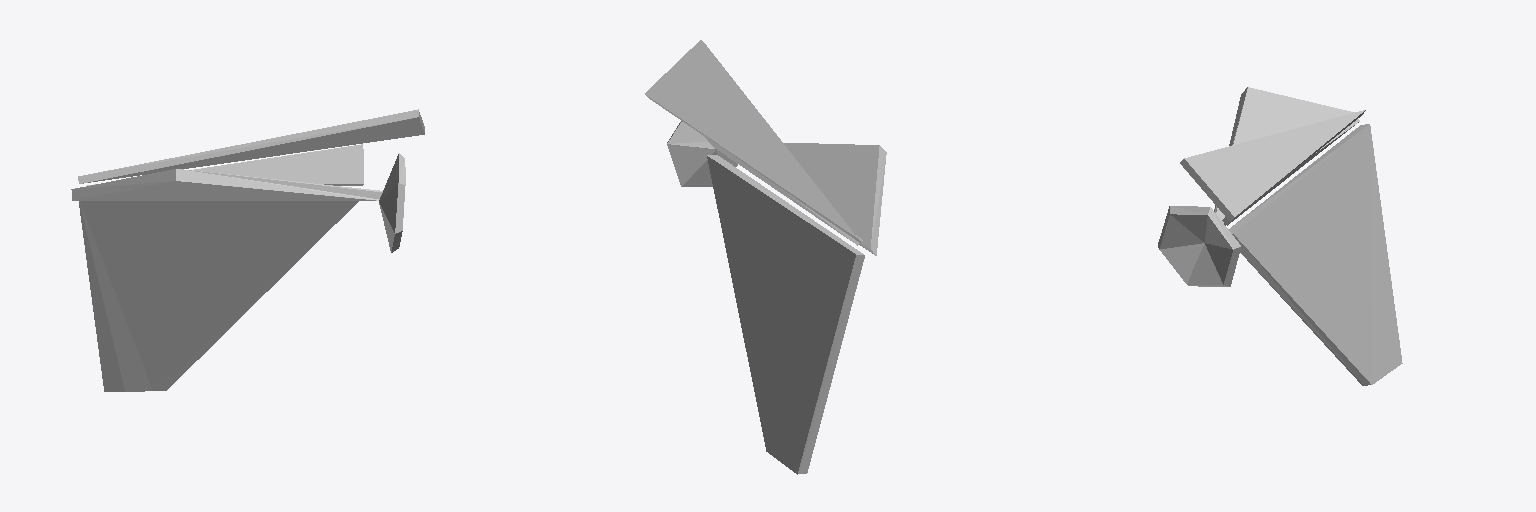
File: homoplate_left.obj
3 views of the same model, side by side, from view 1: azimuth 30°, elevation 25°; view 2: azimuth 150°, elevation 25°; view 3: azimuth 270°, elevation 25° (orthographic).
Visible parts, largest first — view 1: LSCAPULA01_LSCAPULA01_WHITE_BONE; view 2: LSCAPULA01_LSCAPULA01_WHITE_BONE; view 3: LSCAPULA01_LSCAPULA01_WHITE_BONE.
Boxes of the visible parts, x1,y1,x2,y2 form: LSCAPULA01_LSCAPULA01_WHITE_BONE: [71, 109, 424, 391]; LSCAPULA01_LSCAPULA01_WHITE_BONE: [645, 40, 886, 474]; LSCAPULA01_LSCAPULA01_WHITE_BONE: [1158, 87, 1402, 385].
Size of the model in its own units: 5.73 by 5.75 by 4.16.